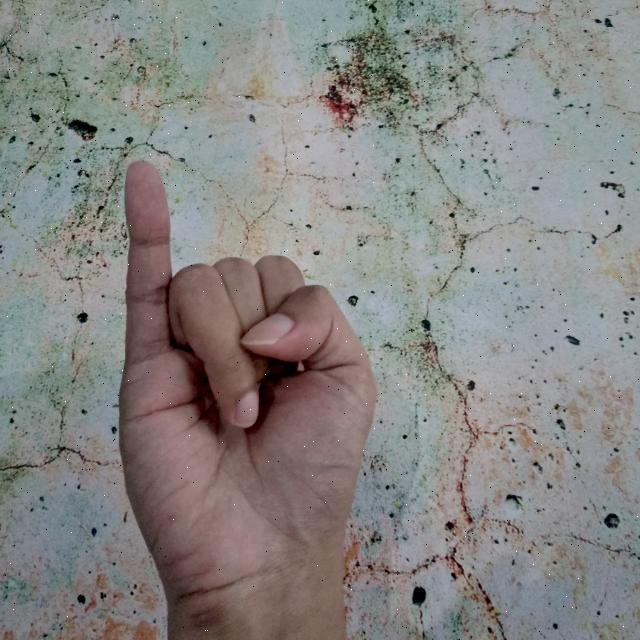I: (114, 154, 380, 640)
